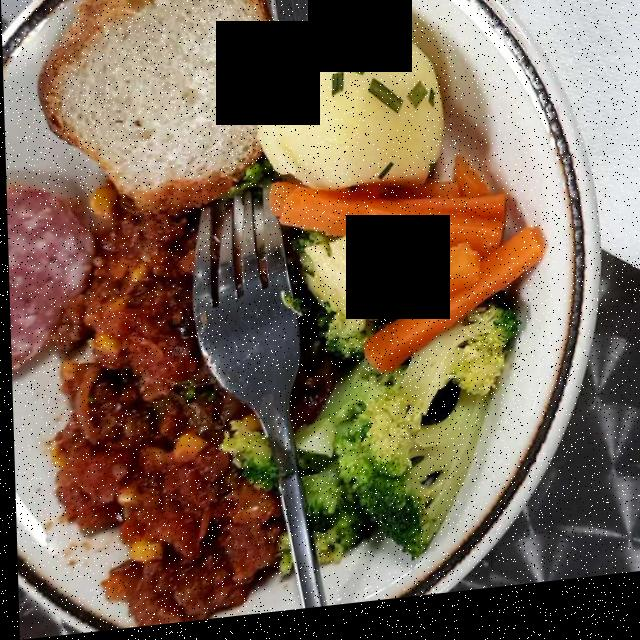bread: (34, 0, 285, 235)
broccoli: (221, 238, 506, 588)
carrot-raw: (247, 169, 560, 390)
chili-con-carne-prepared: (38, 189, 274, 626)
mashed-potatoes-prepared-with-full-fat-milk-with-butter: (227, 16, 450, 216)
salami: (7, 178, 97, 368)
